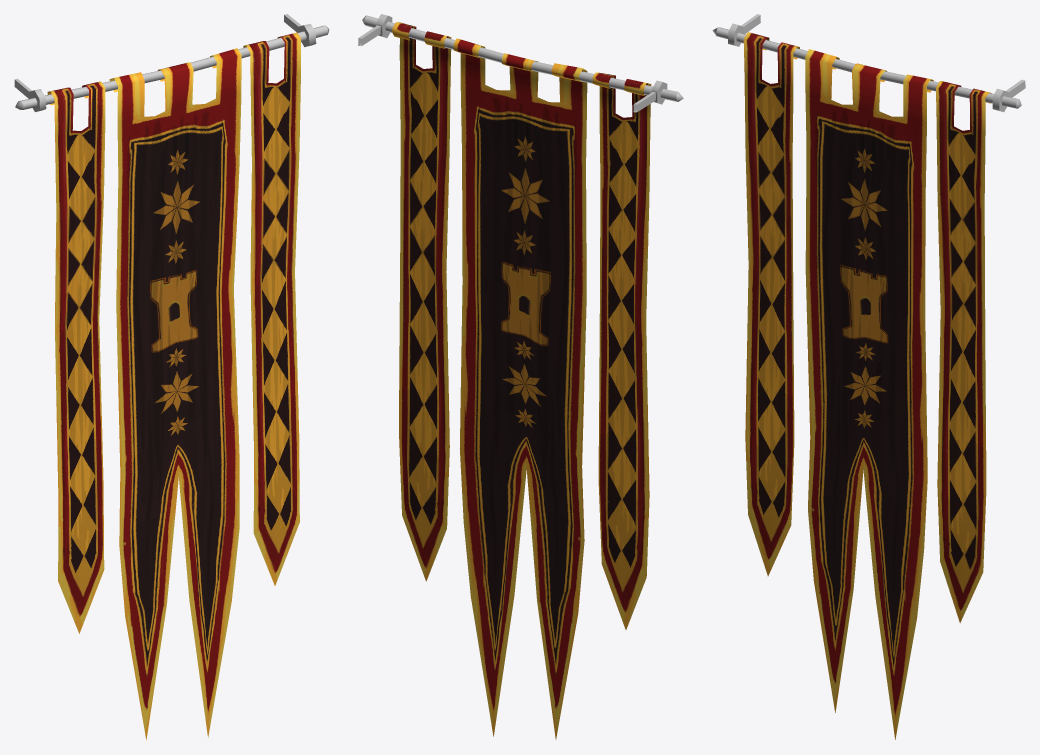
The model's file is SM_PROP_flag_city_04.fbx.
3 renders of one model, left to right at view 1: azimuth 30°, elevation 25°; view 2: azimuth 150°, elevation 25°; view 3: azimuth 330°, elevation 25°, orthographic. The views are drawn at different scales.
Visible parts, largest first — view 1: SM_PROP_flag_city_04; view 2: SM_PROP_flag_city_04; view 3: SM_PROP_flag_city_04.
Boxes of the visible parts, left/top/right/bottom form: SM_PROP_flag_city_04: left=14, top=14, right=329, bottom=739; SM_PROP_flag_city_04: left=358, top=14, right=683, bottom=739; SM_PROP_flag_city_04: left=712, top=14, right=1025, bottom=739.
Size of the model in its own units: 266 by 555 by 41.23.
